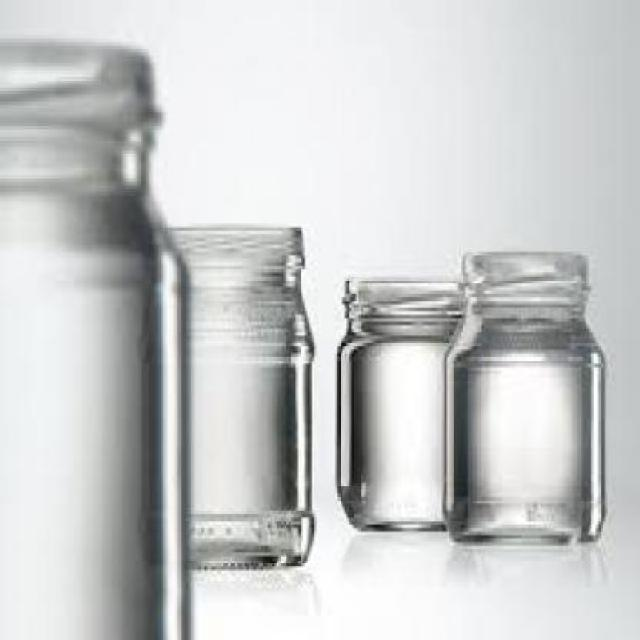kaca: (0, 38, 186, 637), (165, 228, 312, 570), (442, 245, 603, 546), (335, 274, 454, 532)
